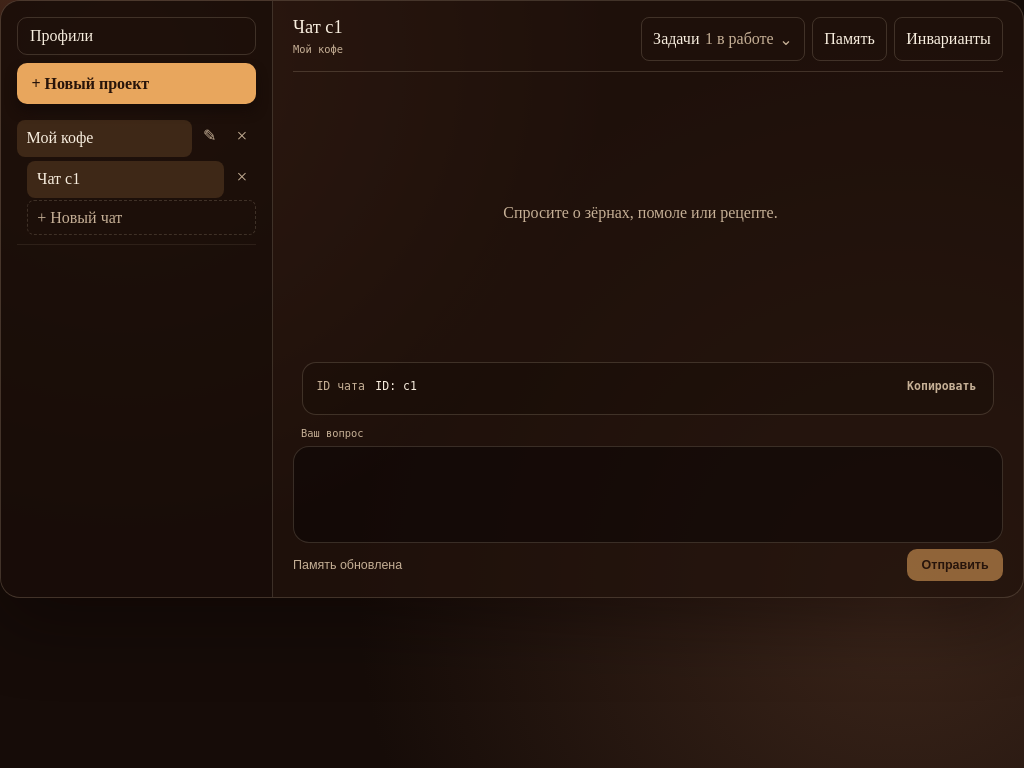
BaristaWorkspace › не превращает отменённый input в ошибку, если он отклонился раньше ответа Pause
Type "Сделай крепче" into the text box labelled "Ваш вопрос".
click(648, 494); type("Сделай крепче")  # box [293,446,1003,543]
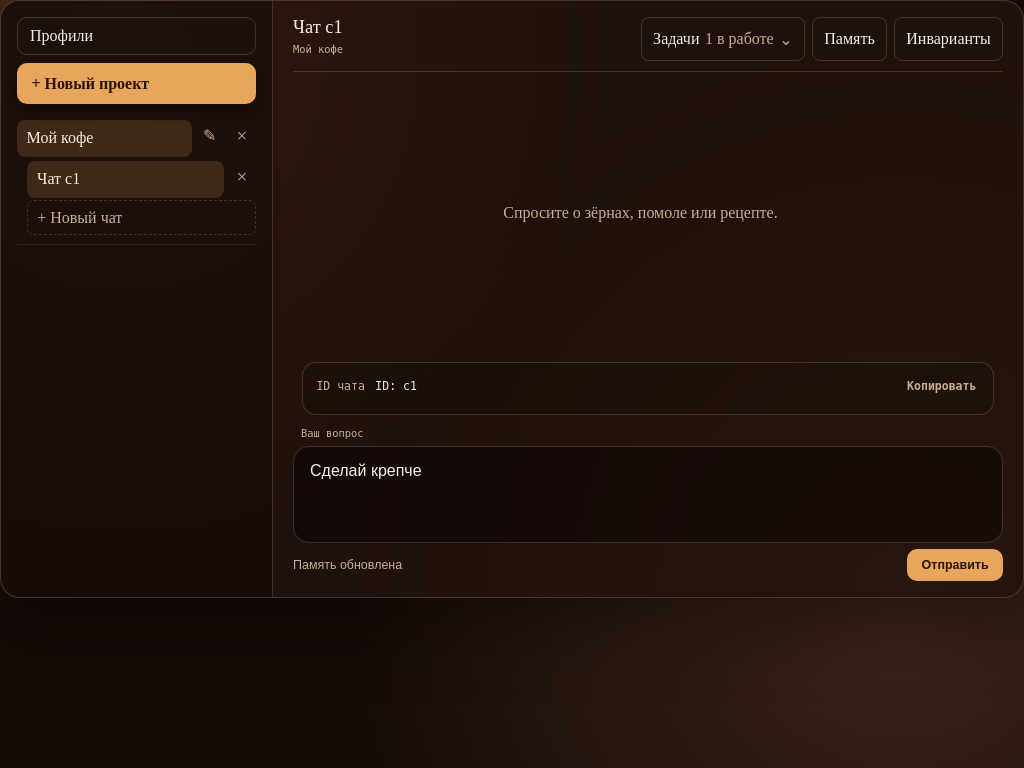
Click the button "Отправить".
click(955, 565)  # box [907,549,1003,581]
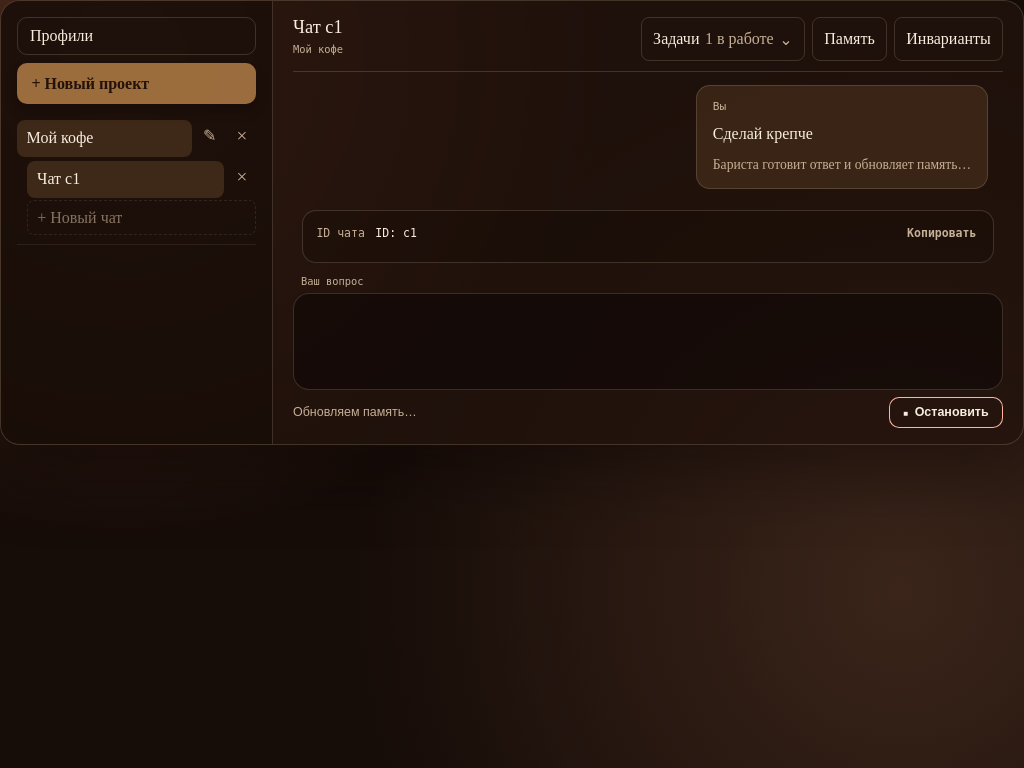
Click the button "Остановить".
click(946, 412)  # box [889,397,1003,428]
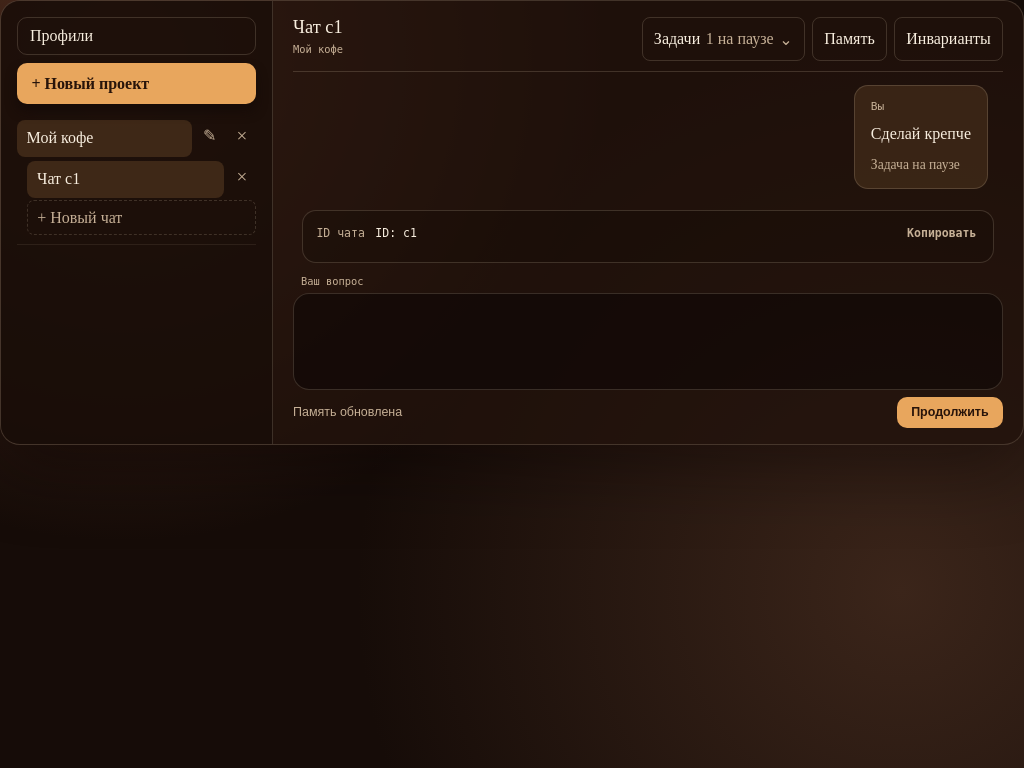
Expected: the text "Бариста готовит ответ и обновляет память…" is shown, [871,157,971,173]
Expected: the button "Продолжить" is shown, [897,397,1003,428]
